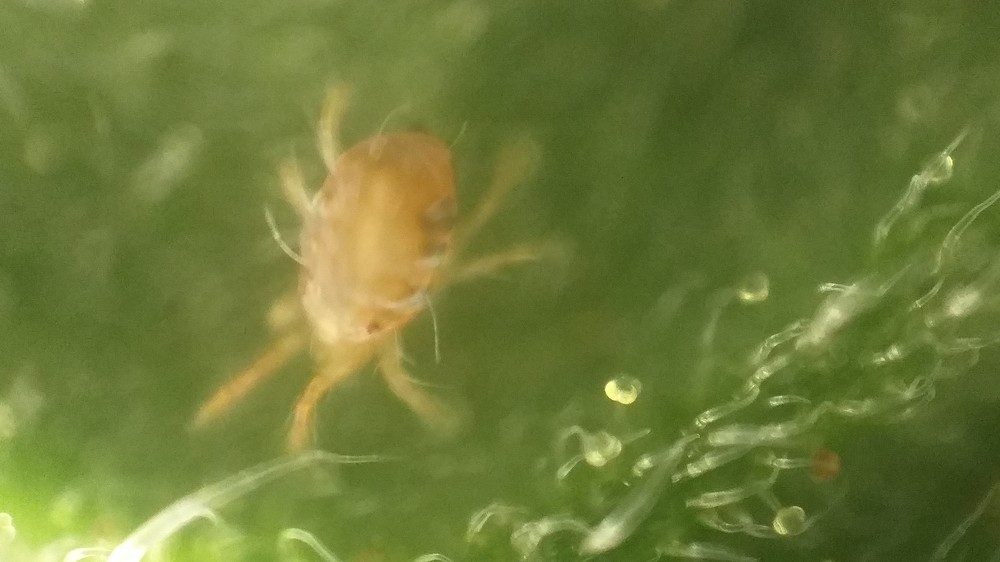Aracnido Rojo: (184, 76, 568, 470)
